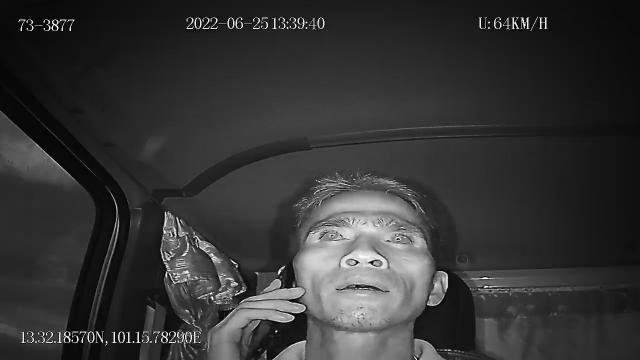PhoneUse: (242, 262, 294, 360)
SafeDriving: (378, 224, 422, 249), (312, 222, 354, 247)
